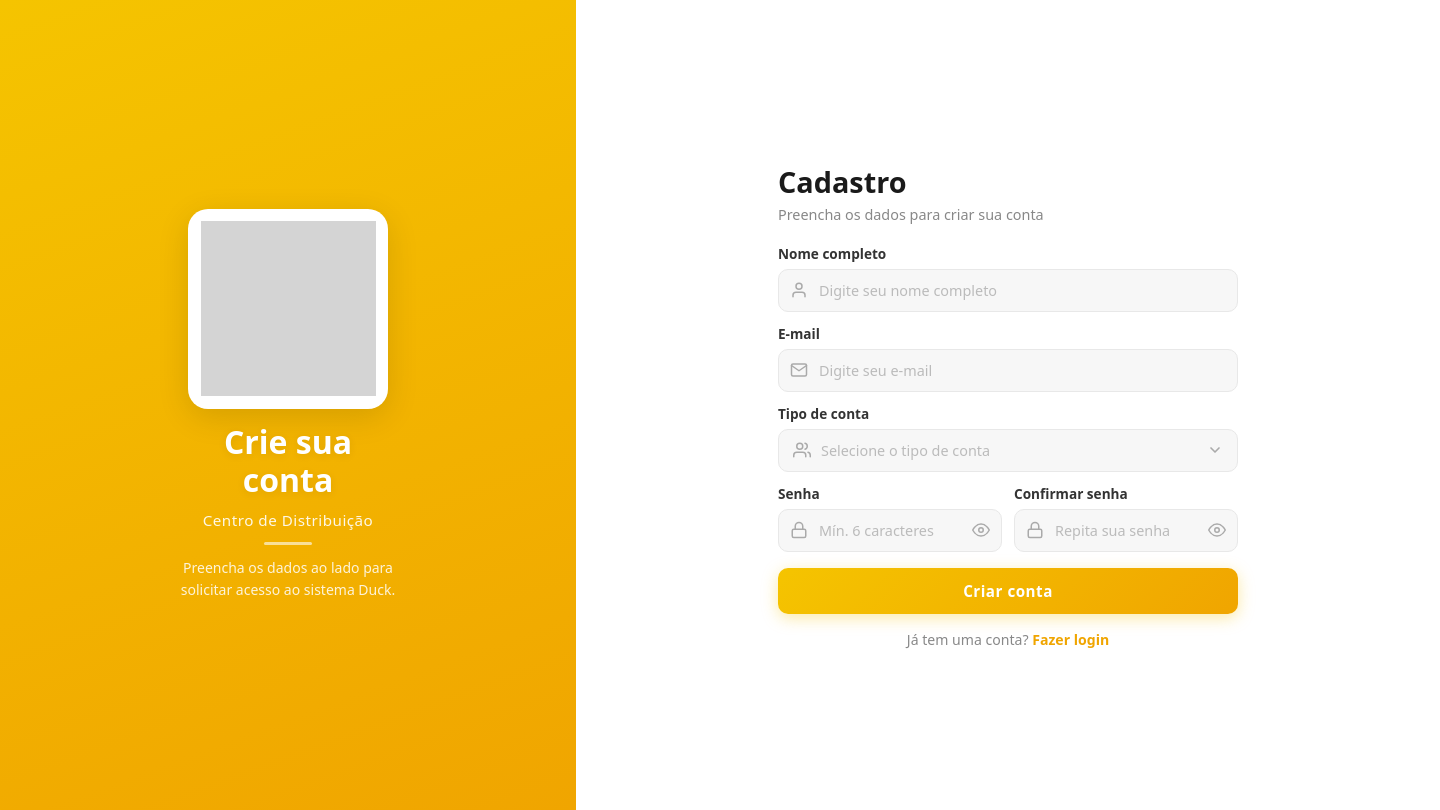
Scenario: Tela de Cadastro › exibe erro quando a senha tem menos de 6 caracteres
Type "Joao Silva" into the field with placeholder "Digite seu nome completo". click: (1008, 290)
box: [778, 268, 1238, 312]
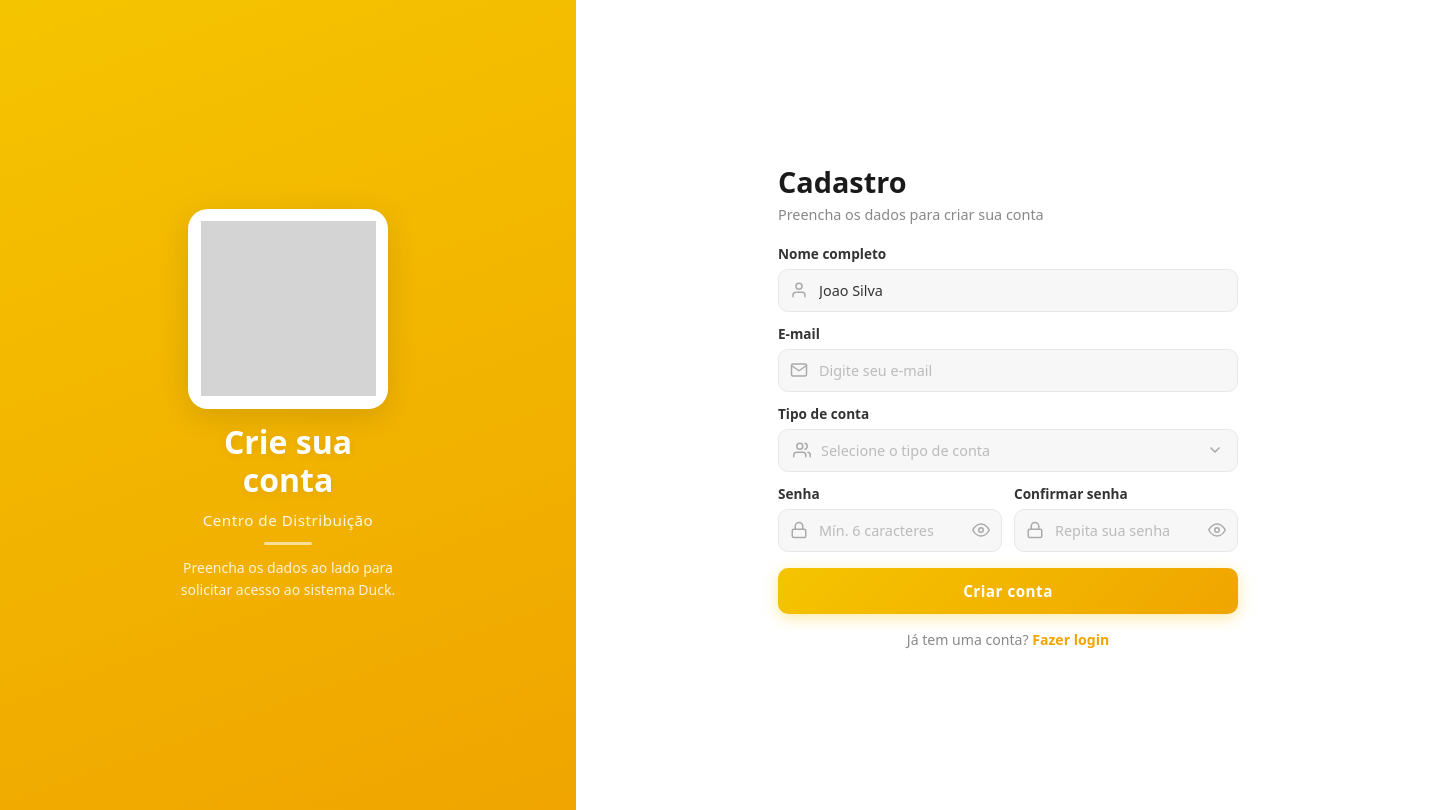
Type "joao@email.com" into the field with placeholder "Digite seu e-mail". click: (1008, 370)
box: [778, 348, 1238, 392]
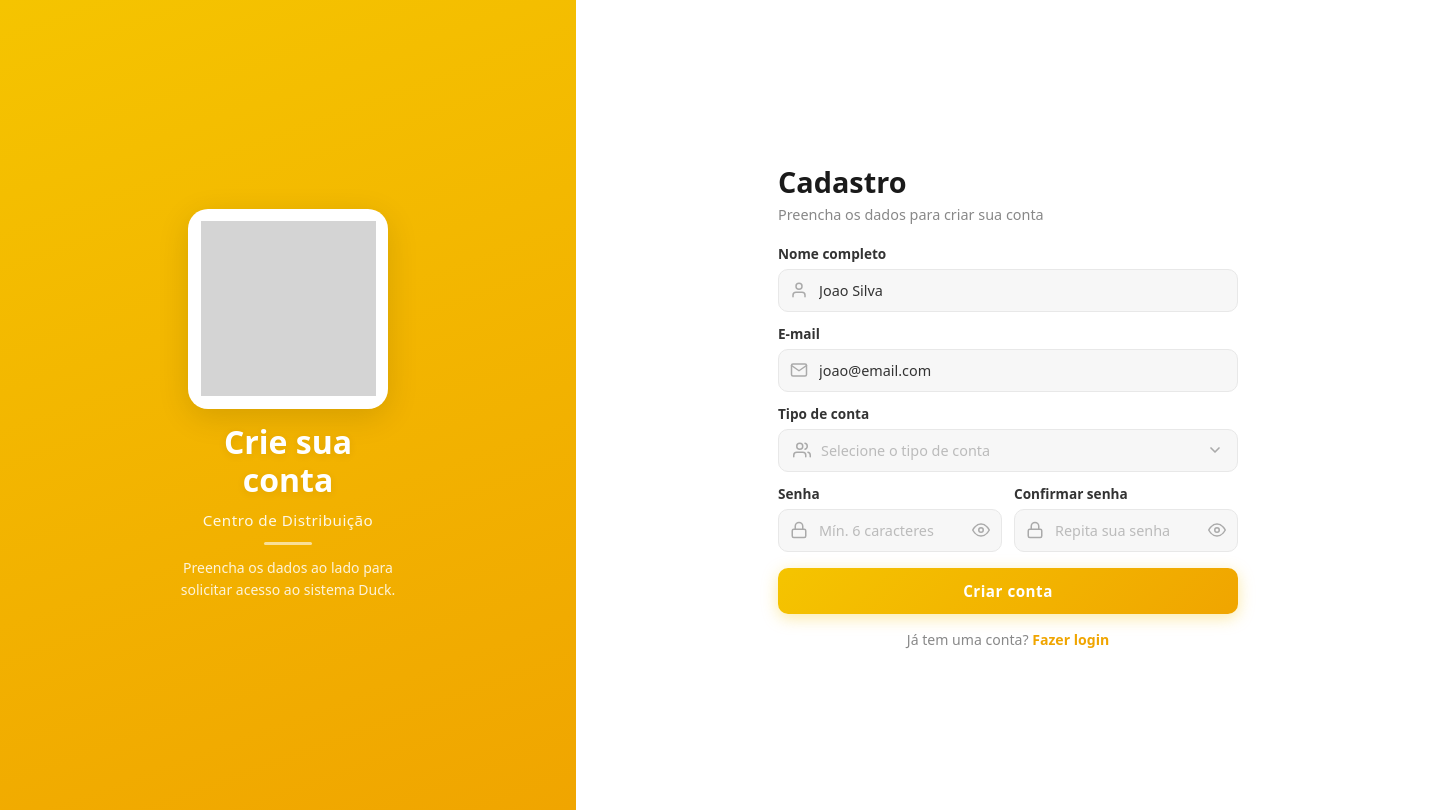
Type "123" into the password field with placeholder "Mín. 6 caracteres". click: (890, 530)
box: [778, 508, 1002, 552]
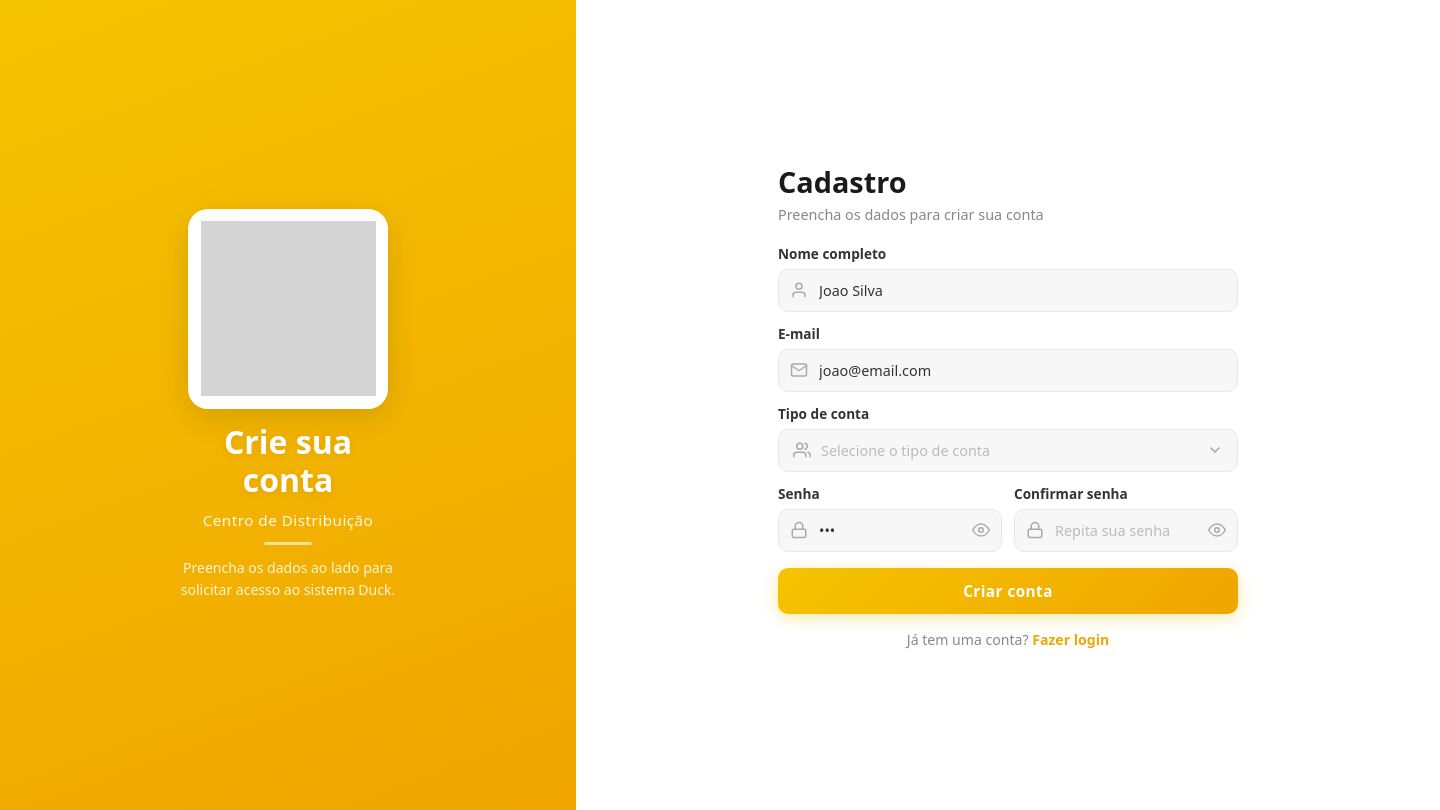
Type "123" into the password field with placeholder "Repita sua senha". click: (1126, 530)
box: [1014, 508, 1238, 552]
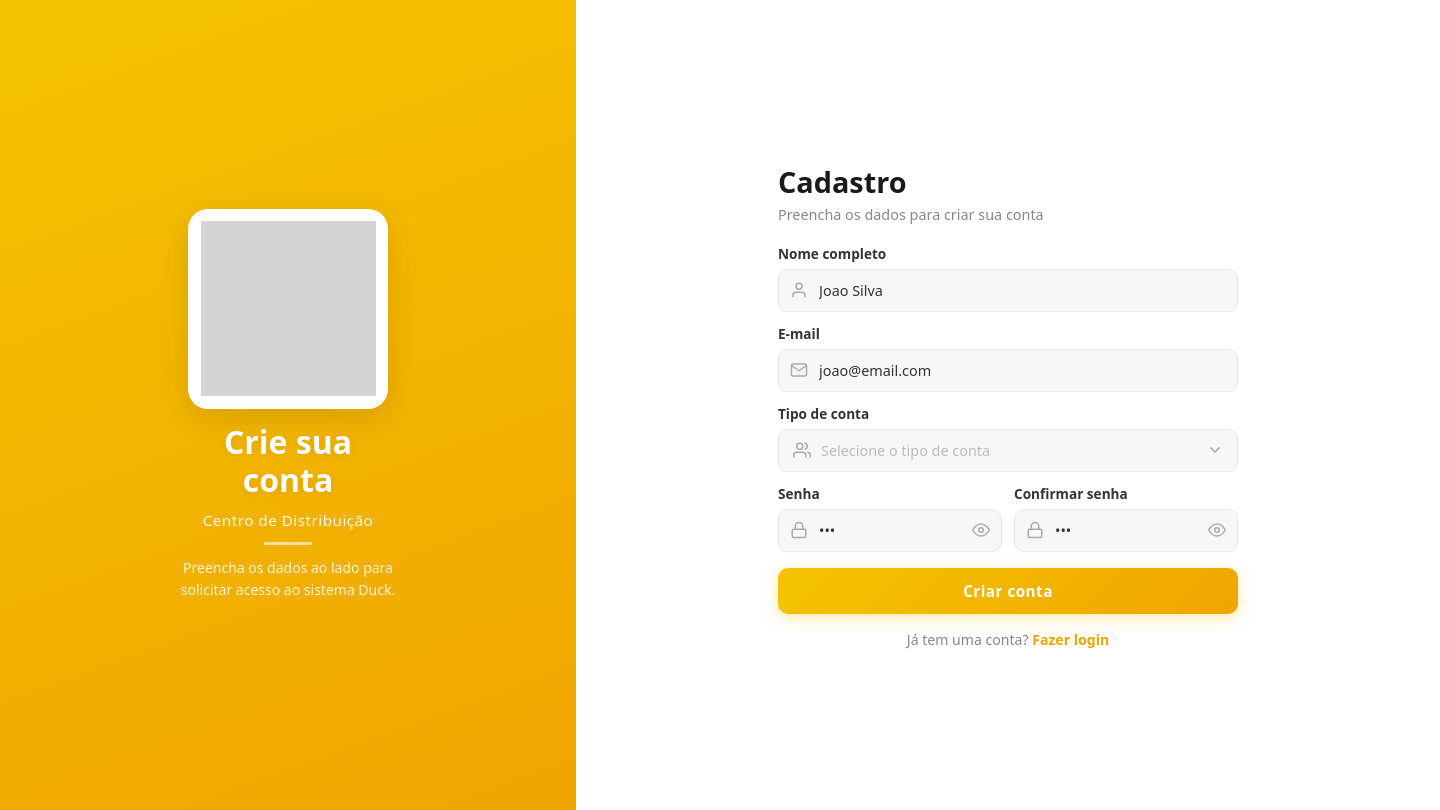
Click the button "Criar conta". click: (1008, 590)
box: [778, 568, 1238, 614]
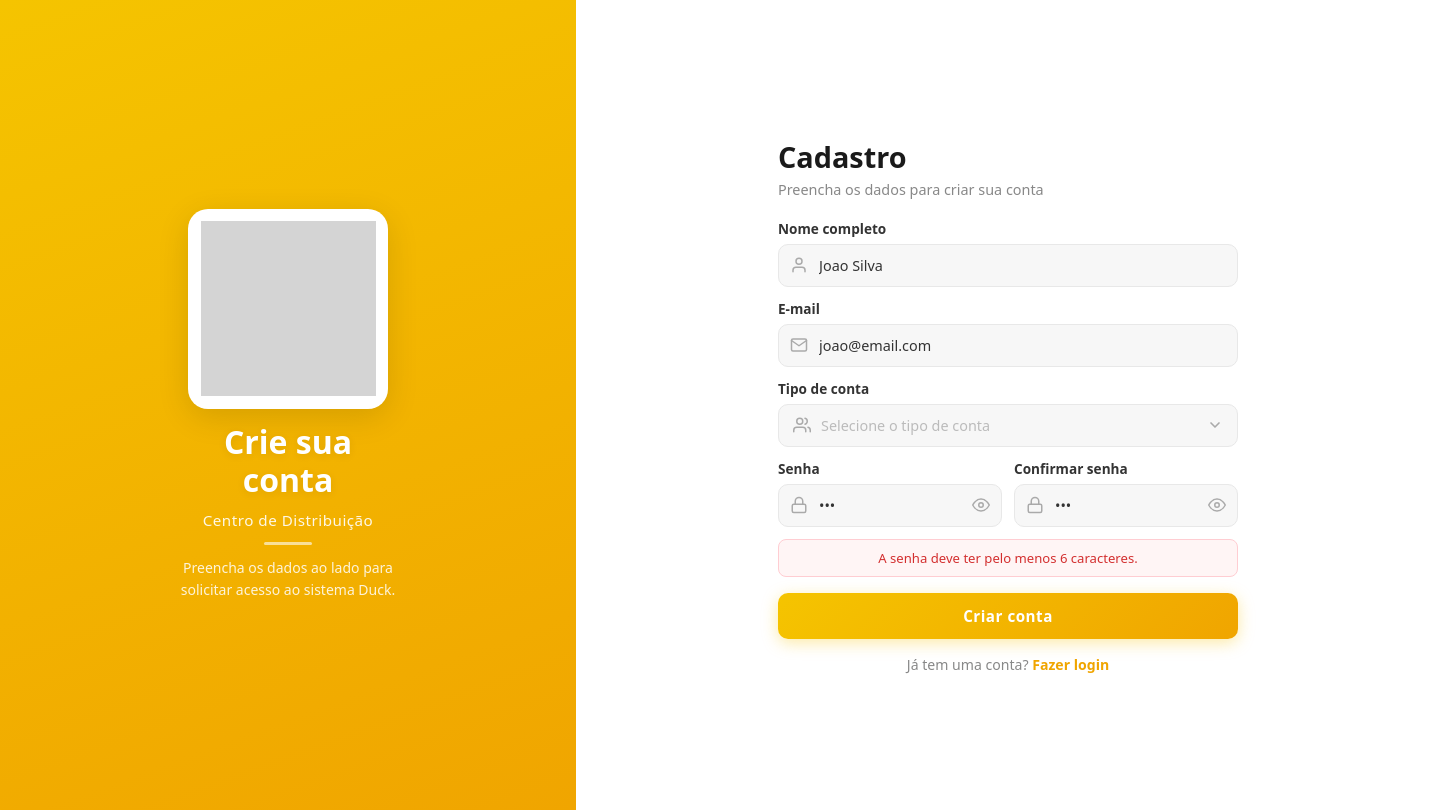
Expected: the text "A senha deve ter pelo menos 6 caracteres." is shown, [778, 538, 1238, 576]
